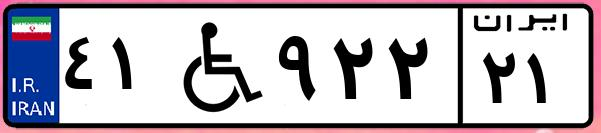1: (525, 38, 570, 115), (110, 28, 158, 98)
2: (385, 28, 445, 110), (330, 28, 385, 110), (475, 38, 525, 113)
4: (57, 26, 110, 100)
9: (270, 28, 330, 110)
ژ (معلولین و جانبازان): (158, 12, 270, 120)
